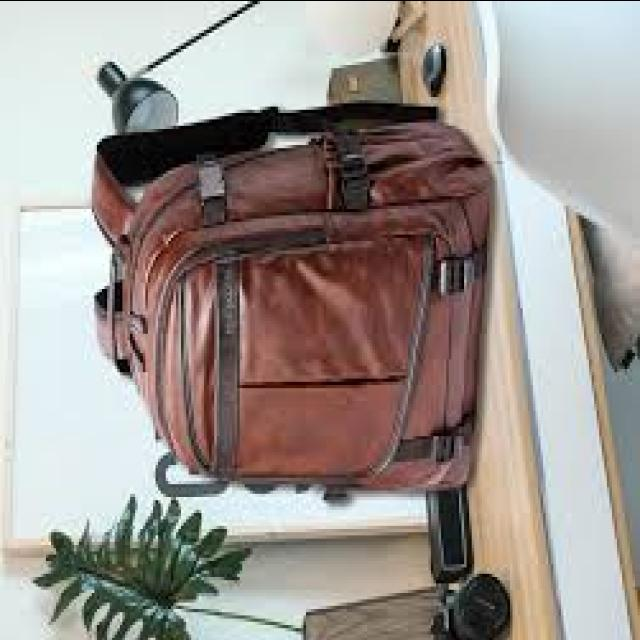backpack: (90, 107, 493, 501)
